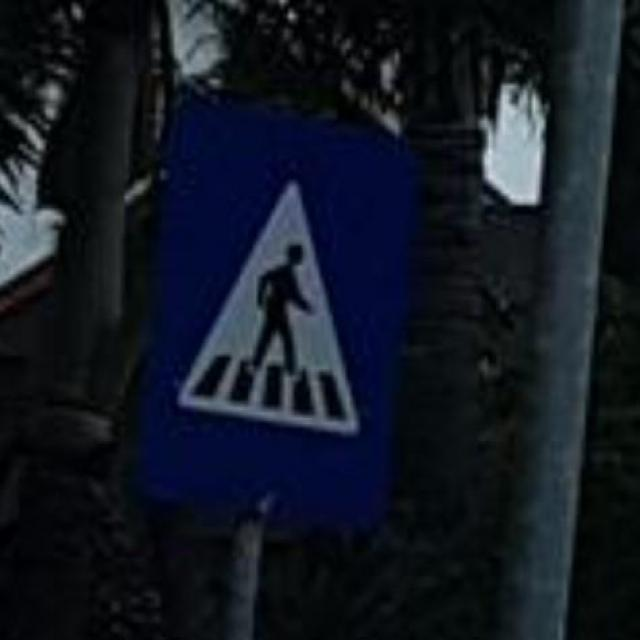traffic sign: (163, 135, 382, 494)
